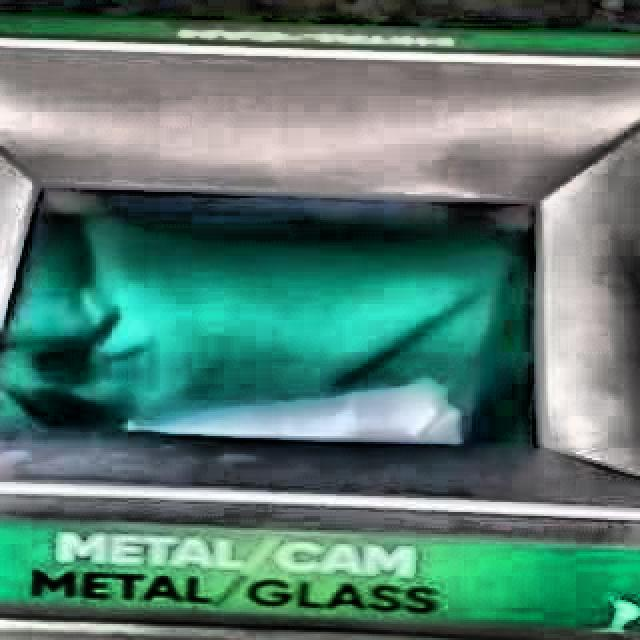metal: (149, 384, 461, 444)
